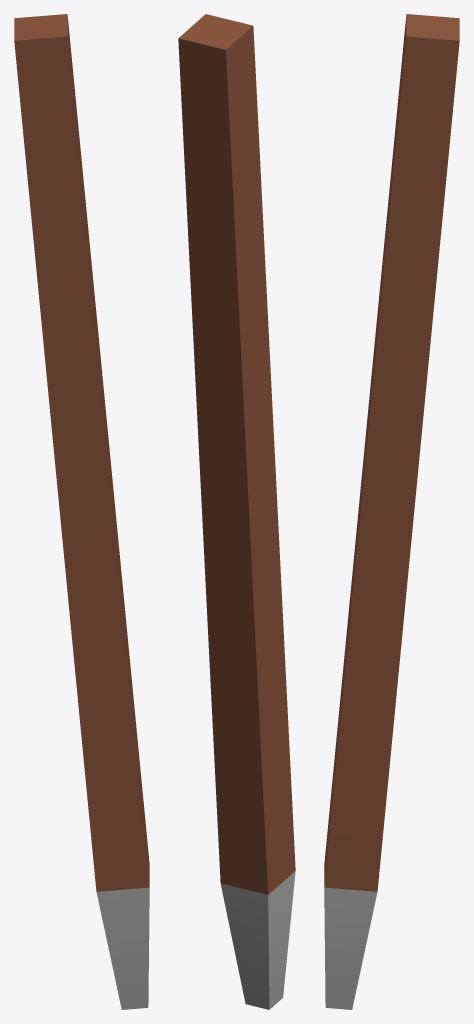
The model's file is Arrow.fbx.
The picture shows the model from 3 angles, left to right: view 1: azimuth 90°, elevation 25°; view 2: azimuth 150°, elevation 25°; view 3: azimuth 270°, elevation 25°; orthographic projection. The views are drawn at different scales.
Visible parts, largest first — view 1: Arrow; view 2: Arrow; view 3: Arrow.
Part boxes in pixels (bbox=[...]): Arrow: bbox=[14, 14, 149, 1009]; Arrow: bbox=[178, 14, 295, 1009]; Arrow: bbox=[324, 14, 459, 1009].
Bounding box in the file's own units: 0.0266 × 0.5373 × 0.0674.
